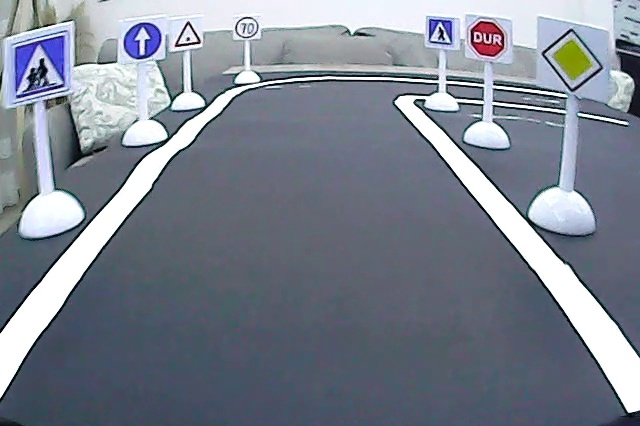green light: (172, 18, 203, 49)
pedestrian crossing: (426, 16, 455, 48)
school crossing: (10, 35, 68, 102)
speed limit 70: (235, 16, 259, 41)
stop sign: (468, 18, 508, 63)
